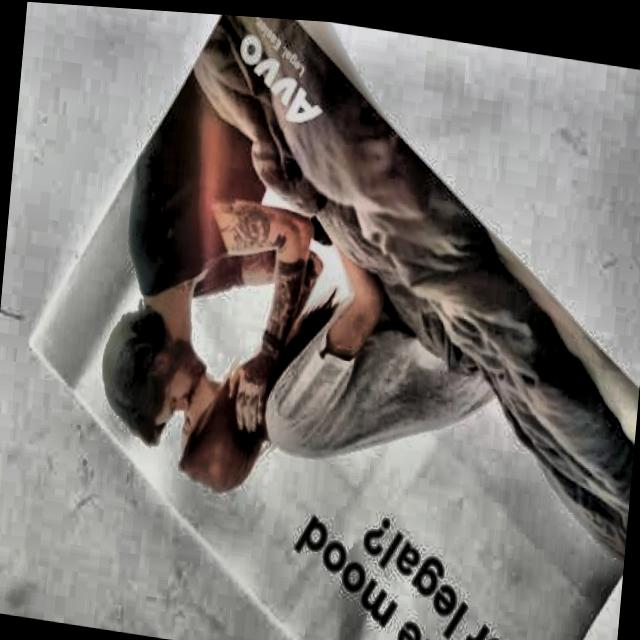Paper: (2, 0, 640, 640)
